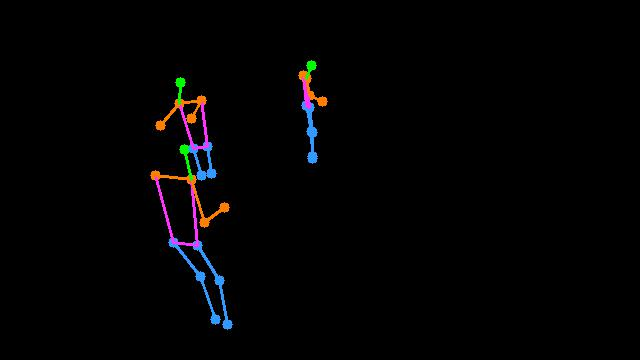normal: (285, 54, 342, 177)
